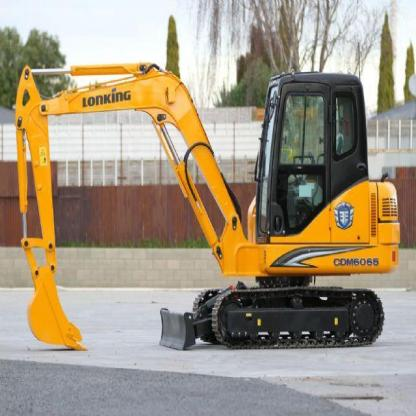excavator: (8, 27, 400, 371)
